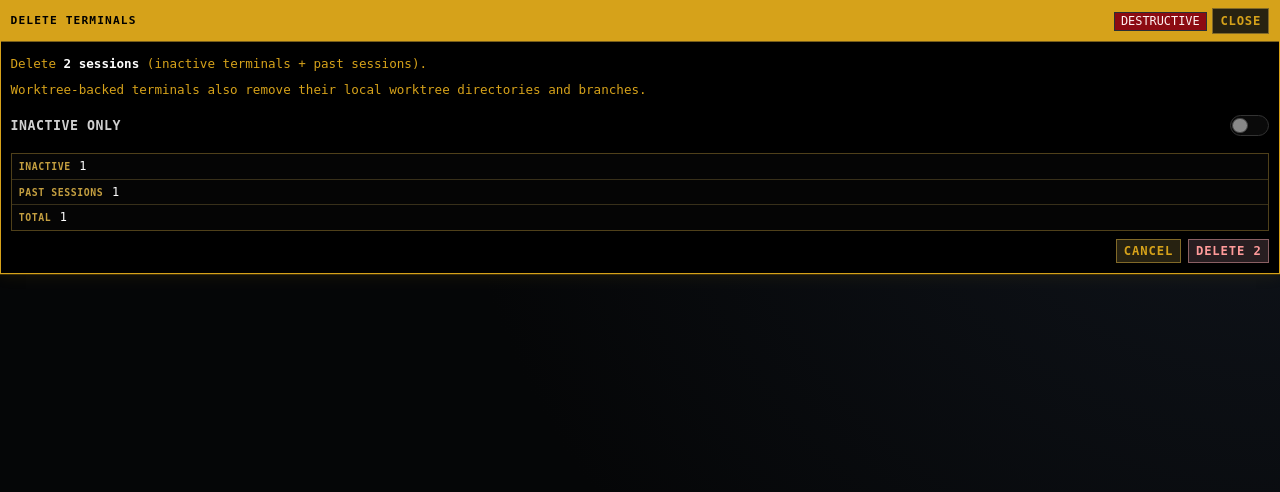
Test: DeleteAllTerminalsDialog › surfaces partial failures after refreshing the parent state
Click the button with aria-label "Confirm delete all terminals".
click(1229, 251)  # box [1188, 239, 1270, 263]
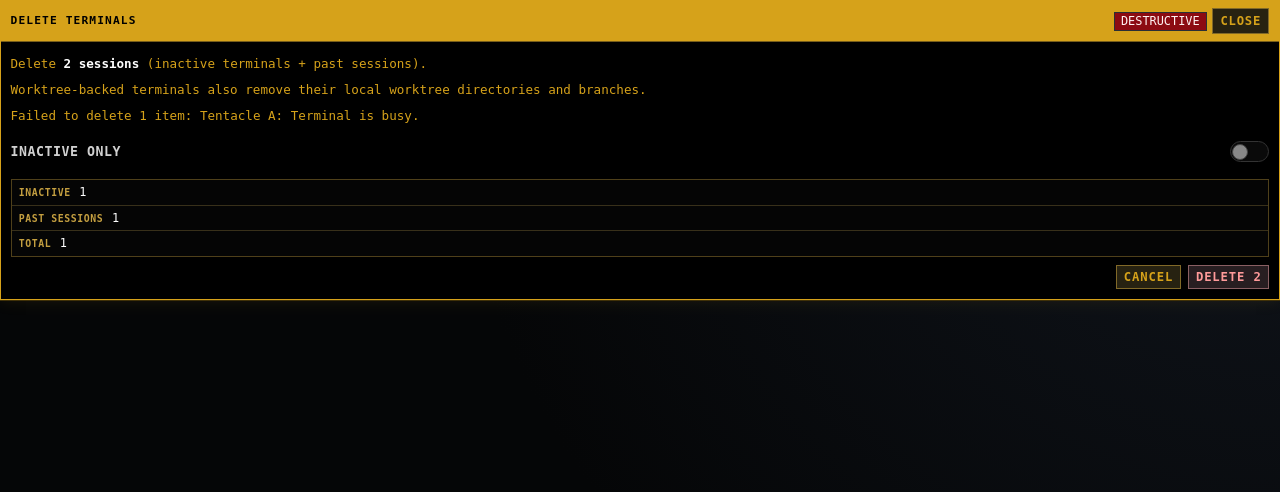
Expected: the message reads "Failed to delete 1 item: Tentacle A: Terminal is busy.", [10, 108, 420, 123]
